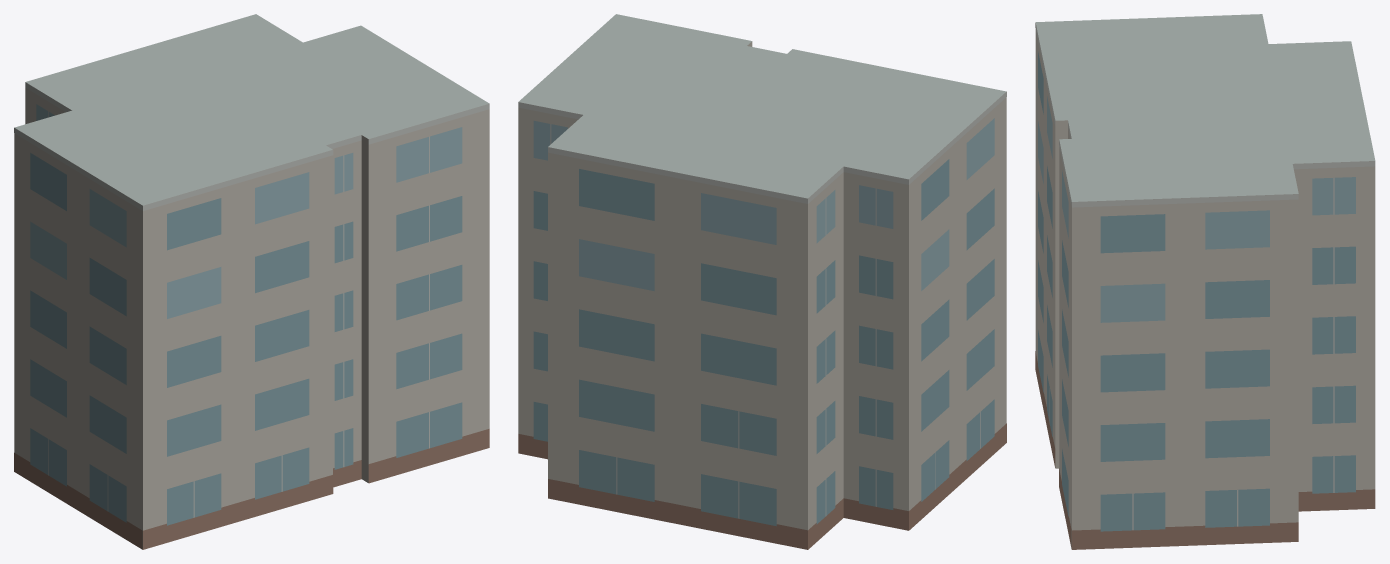
Rendered from survey-upis-32957775.glb.
3 renders of one model, left to right at view 1: azimuth 30°, elevation 25°; view 2: azimuth 150°, elevation 25°; view 3: azimuth 270°, elevation 25°, orthographic. The views are drawn at different scales.
Parts seen in each view (by area): view 1: survey-upis-32957775.tmp; view 2: survey-upis-32957775.tmp; view 3: survey-upis-32957775.tmp.
Part boxes in pixels (x1,y1,x2,y2): survey-upis-32957775.tmp: (14, 14, 489, 549); survey-upis-32957775.tmp: (518, 14, 1006, 549); survey-upis-32957775.tmp: (1035, 14, 1375, 549).
Bounding box in the file's own units: 17.74 × 15.3 × 13.56.
